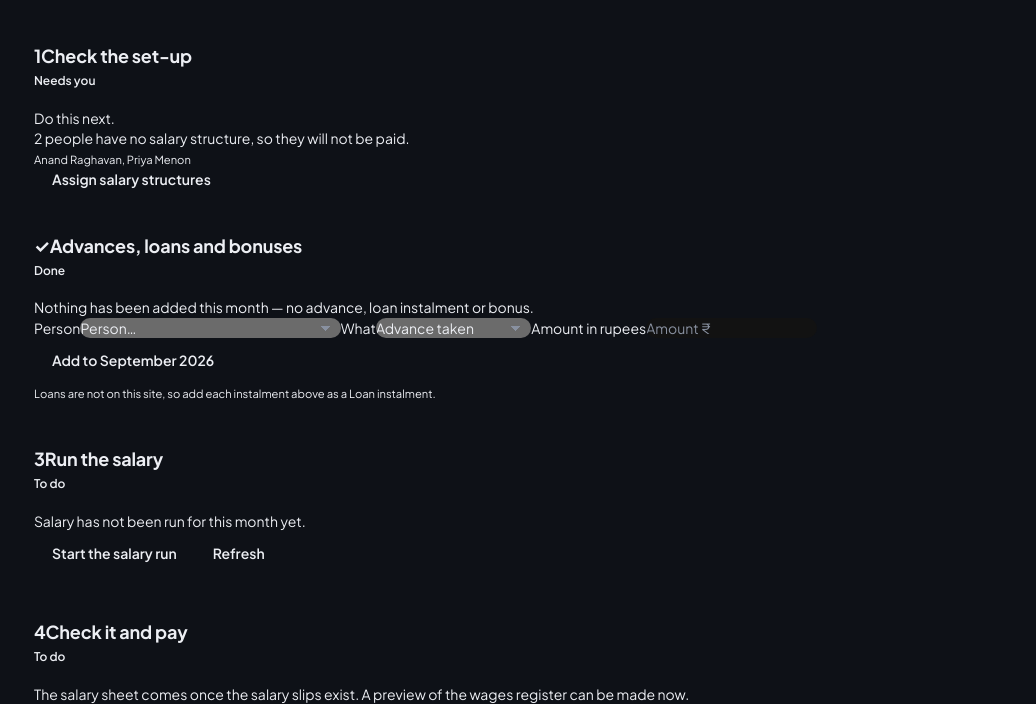
Test: step 2 — advances, loans and bonuses › will not add without a person or an amount, and says which
(page scrolled)
Click the button "Add to September 2026" at (133, 360), box [34,338,232,382]
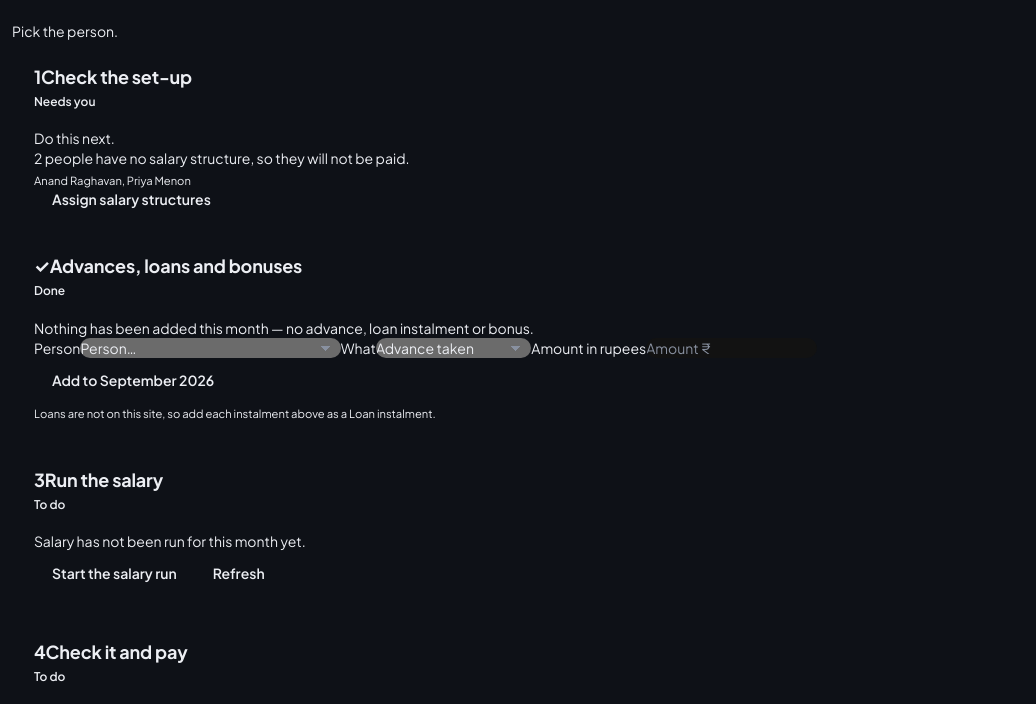
Result: the text "Pick the person." is shown at [12,22,118,40]
Select "Anand Raghavan (HR-EMP-00001)" in the dropdown labelled "Person" at (211, 348), box [80,338,341,358]
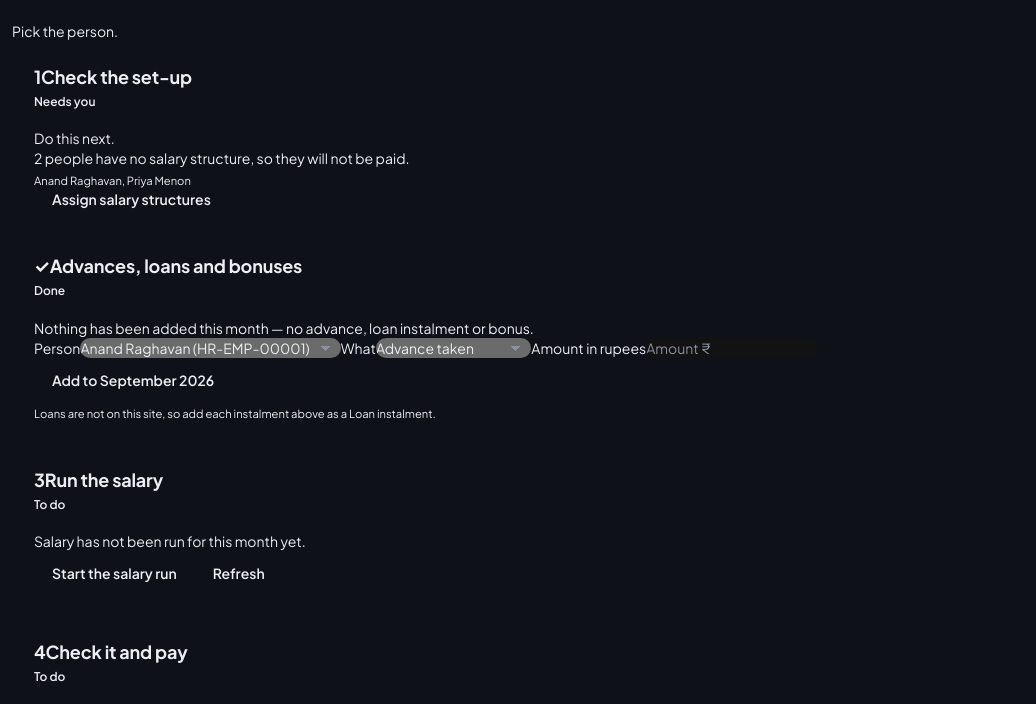
Click the button "Add to September 2026" at (133, 380), box [34,358,232,402]
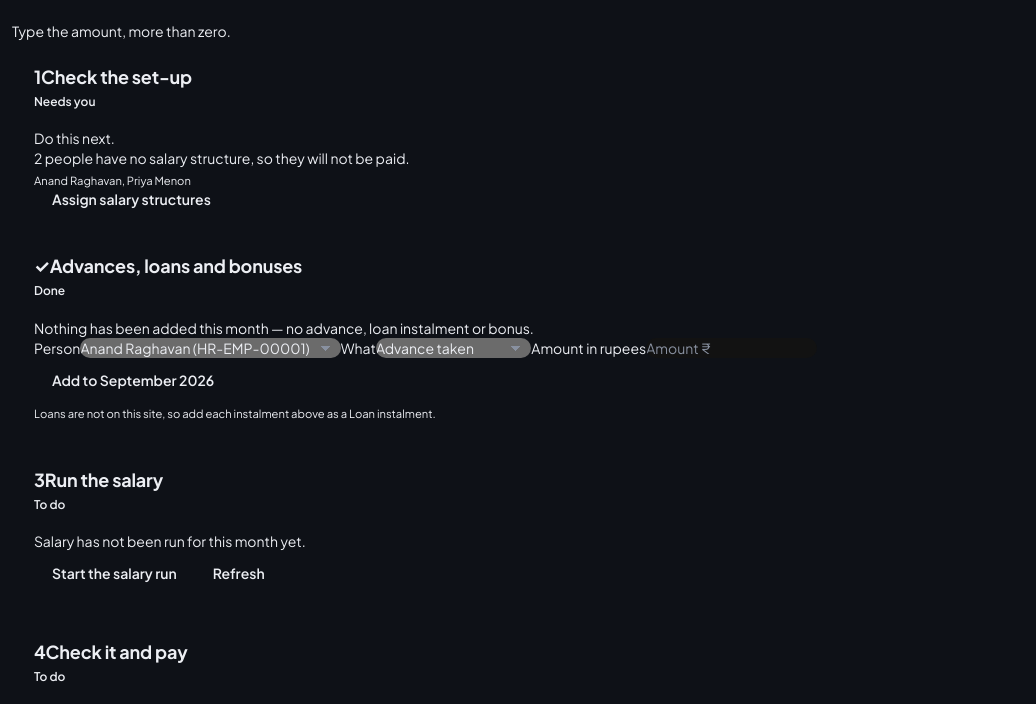
Result: the text "Type the amount" is shown at [12,22,231,40]
